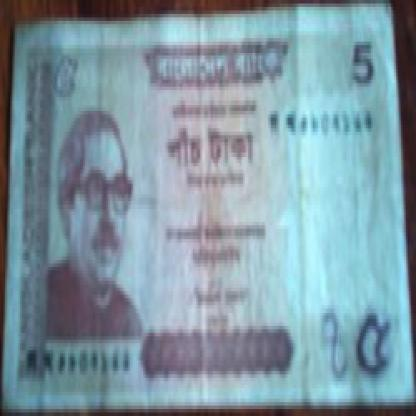Five Taka: (162, 125, 262, 170), (351, 298, 394, 375), (50, 48, 80, 111), (349, 38, 378, 90)
